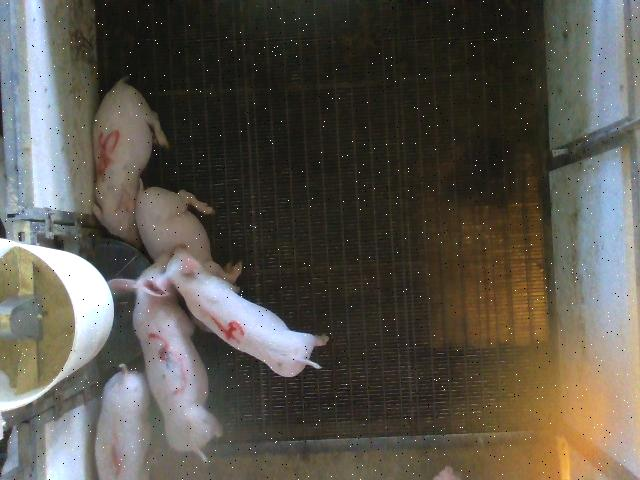pig-1: (95, 364, 149, 479)
pig-3: (109, 254, 221, 462)
pig-4: (166, 249, 329, 377)
pig-5: (92, 78, 169, 247)
